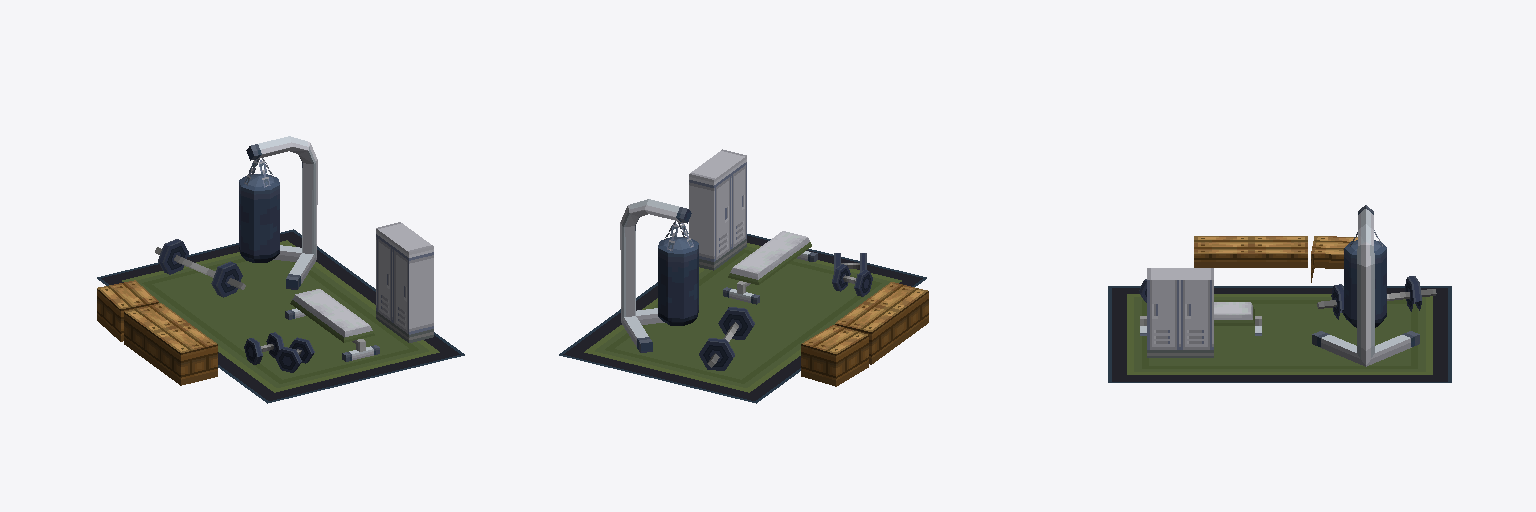
3 renders of one model, left to right at view 1: azimuth 30°, elevation 25°; view 2: azimuth 150°, elevation 25°; view 3: azimuth 270°, elevation 25°, orthographic.
Parts seen in each view (by area): view 1: polygon0; view 2: polygon0; view 3: polygon0.
Boxes of the visible parts, <box> form: polygon0: <box>97,136,464,403</box>; polygon0: <box>559,149,928,403</box>; polygon0: <box>1108,205,1451,382</box>.
Size of the model in its own units: 10 by 5.38 by 12.
2 materials, 2 textured.